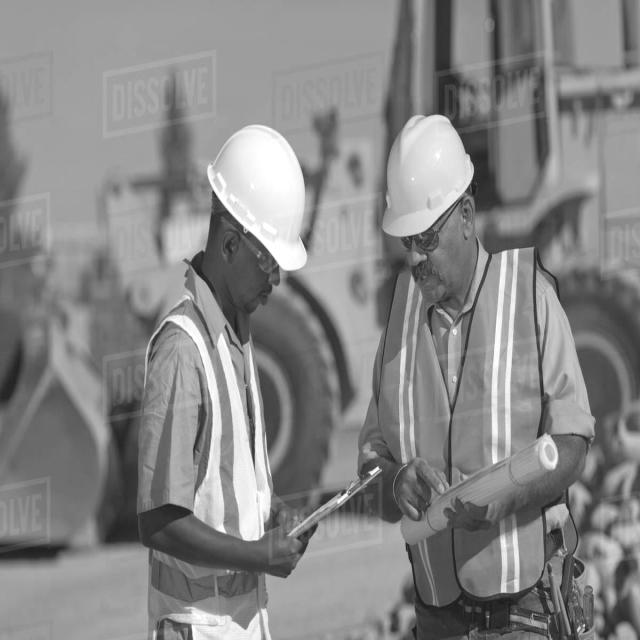face_nomask: (218, 225, 280, 316), (402, 221, 462, 297)
glasses: (394, 230, 443, 256), (254, 243, 284, 276)
hand_noglove: (396, 451, 448, 524), (260, 519, 307, 582)
head_helmet: (202, 123, 309, 271), (372, 114, 478, 238)
person: (380, 113, 573, 640), (165, 126, 290, 640)
vest: (389, 277, 551, 590), (147, 300, 266, 640)
